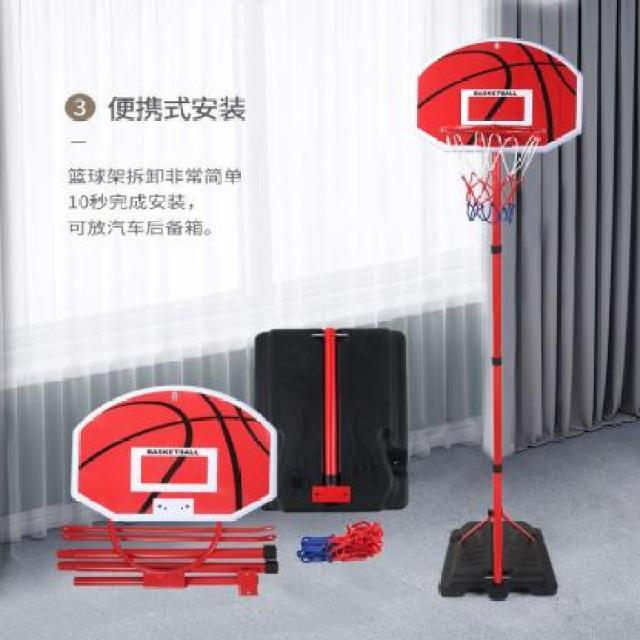rim: (441, 125, 547, 222)
